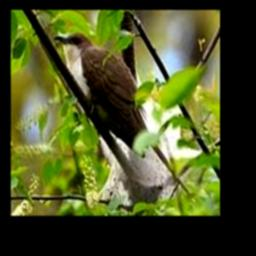Cuckoo: (54, 32, 188, 192)
